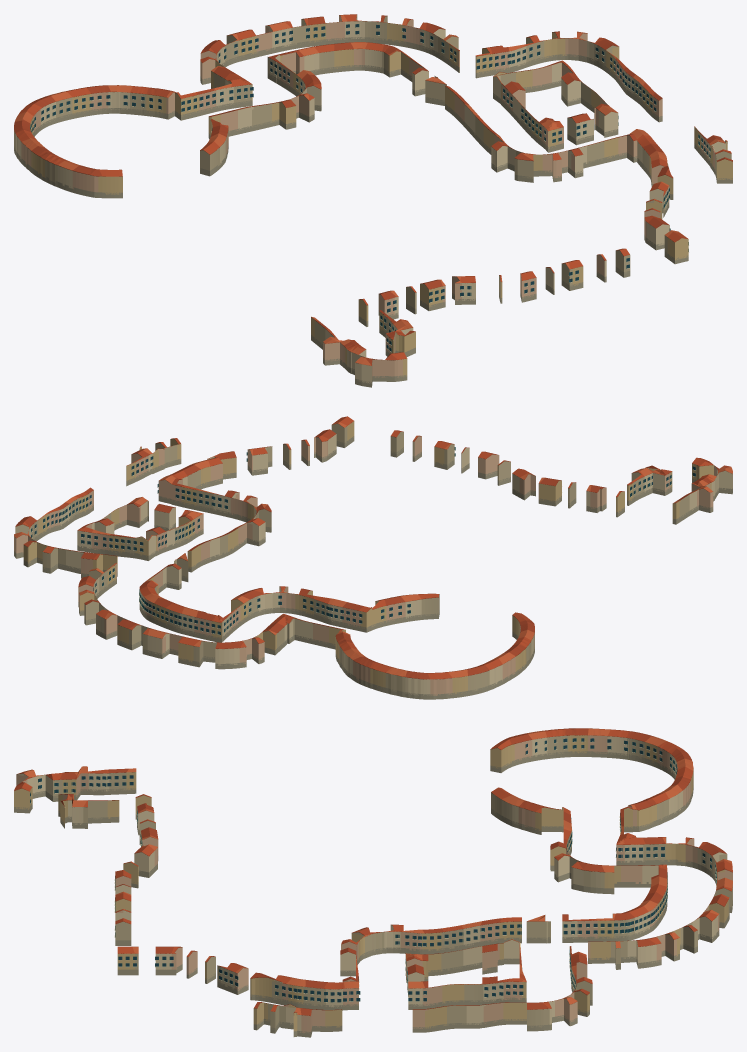
Rendered from architectural_links.glb.
3 renders of one model, top to bottom at view 1: azimuth 30°, elevation 25°; view 2: azimuth 150°, elevation 25°; view 3: azimuth 270°, elevation 25°, orthographic. The views are drawn at different scales.
Parts seen in each view (by area): view 1: CityOuter, CityInner, FountainWest, RightStairBlock, LeftStairEast, GardenTownEdge, AvenueEntryWest, LeftStairWest, CoastFront, AvenueEntryEast, HarbourDescent, FountainSouthEast; view 2: CityOuter, CityInner, FountainWest, GardenTownEdge, LeftStairEast, RightStairBlock, CoastFront, AvenueEntryWest, LeftStairWest, FountainSouthEast, HarbourDescent, AvenueEntryEast; view 3: CityOuter, FountainWest, CityInner, RightStairBlock, LeftStairEast, CoastFront, AvenueEntryWest, GardenTownEdge, LeftStairWest, HarbourDescent, FountainSouthEast, AvenueEntryEast.
Boxes of the visible parts, x1=… form: CityOuter: x1=208, y1=42, x2=667, y2=186; CityInner: x1=175, y1=14, x2=459, y2=120; FountainWest: x1=14, y1=85, x2=175, y2=198; RightStairBlock: x1=475, y1=31, x2=662, y2=122; LeftStairEast: x1=445, y1=85, x2=637, y2=182; GardenTownEdge: x1=358, y1=248, x2=630, y2=326; AvenueEntryWest: x1=311, y1=316, x2=407, y2=387; LeftStairWest: x1=493, y1=72, x2=593, y2=152; CoastFront: x1=644, y1=140, x2=727, y2=264; AvenueEntryEast: x1=379, y1=310, x2=415, y2=356; HarbourDescent: x1=694, y1=126, x2=732, y2=183; FountainSouthEast: x1=200, y1=119, x2=228, y2=176; CityOuter: x1=77, y1=457, x2=372, y2=642; CityInner: x1=78, y1=563, x2=345, y2=669; FountainWest: x1=335, y1=612, x2=534, y2=699; GardenTownEdge: x1=390, y1=430, x2=624, y2=517; LeftStairEast: x1=171, y1=478, x2=271, y2=572; RightStairBlock: x1=14, y1=487, x2=117, y2=578; CoastFront: x1=139, y1=416, x2=354, y2=479; AvenueEntryWest: x1=672, y1=457, x2=732, y2=524; LeftStairWest: x1=135, y1=504, x2=203, y2=560; FountainSouthEast: x1=372, y1=593, x2=439, y2=629; HarbourDescent: x1=126, y1=438, x2=181, y2=486; AvenueEntryEast: x1=627, y1=465, x2=672, y2=505; CityOuter: x1=275, y1=807, x2=667, y2=1010; FountainWest: x1=490, y1=728, x2=693, y2=831; CityInner: x1=588, y1=806, x2=732, y2=969; RightStairBlock: x1=412, y1=946, x2=592, y2=1032; LeftStairEast: x1=340, y1=917, x2=521, y2=989; CoastFront: x1=117, y1=946, x2=297, y2=1036; AvenueEntryWest: x1=14, y1=766, x2=136, y2=813; GardenTownEdge: x1=114, y1=794, x2=158, y2=945; LeftStairWest: x1=405, y1=942, x2=520, y2=996; HarbourDescent: x1=253, y1=1002, x2=342, y2=1037; FountainSouthEast: x1=491, y1=787, x2=561, y2=834; AvenueEntryEast: x1=58, y1=794, x2=119, y2=828.
Size of the model in its own units: 261 by 19.65 by 291.
